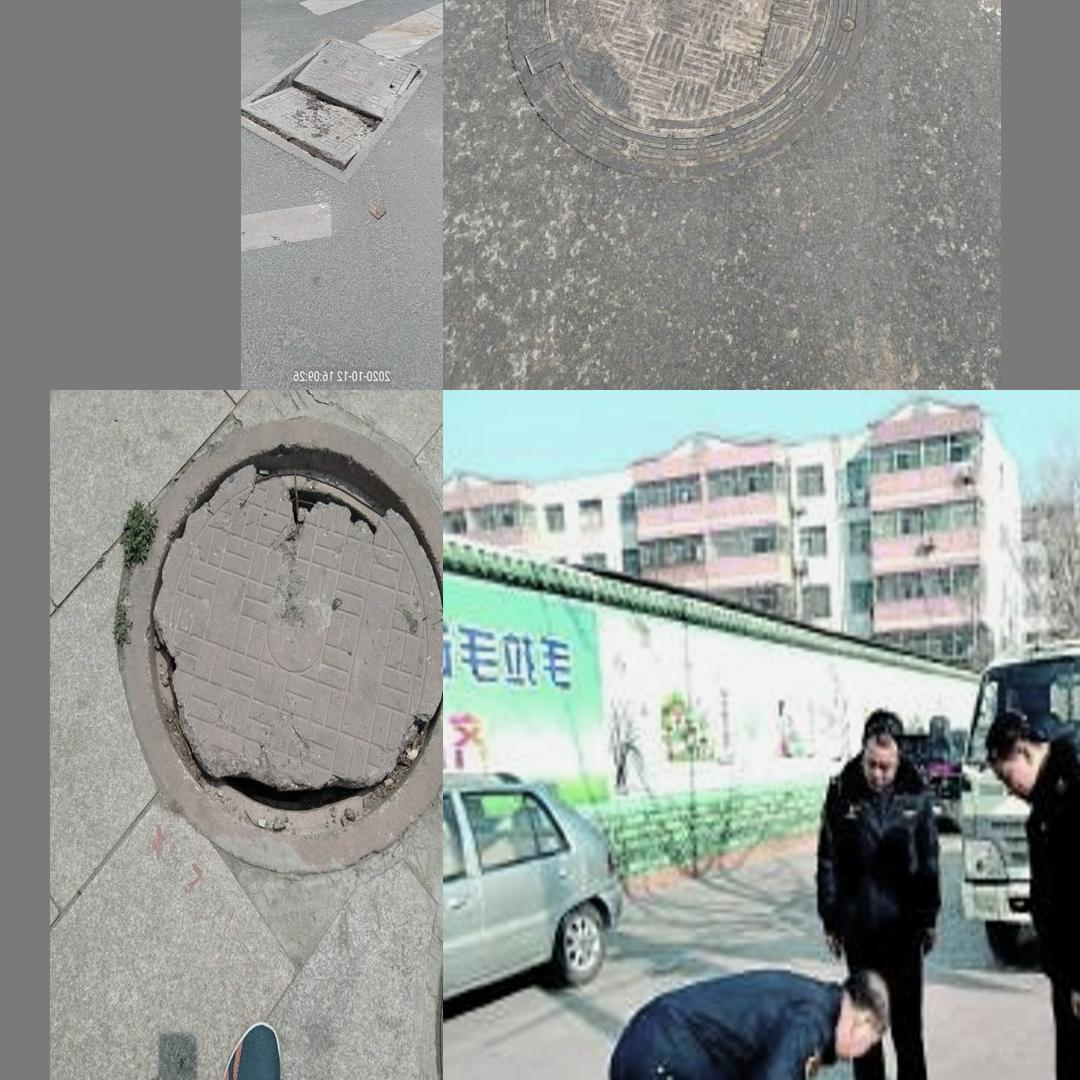broke: (112, 409, 443, 880), (509, 0, 863, 167), (242, 20, 428, 185)
